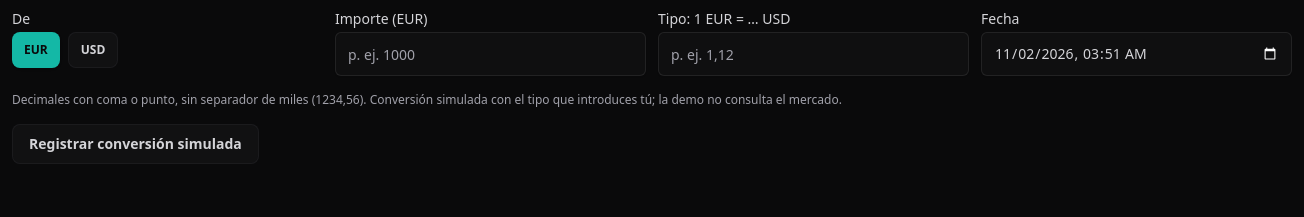
Test: FxTicket (conversión EUR ⇄ USD simulada) › sin fecha pide la fecha de la conversión
Type "1000" into the field labelled "Importe (EUR)" at (490, 54), box top-left (335, 32), bottom-right (646, 76)
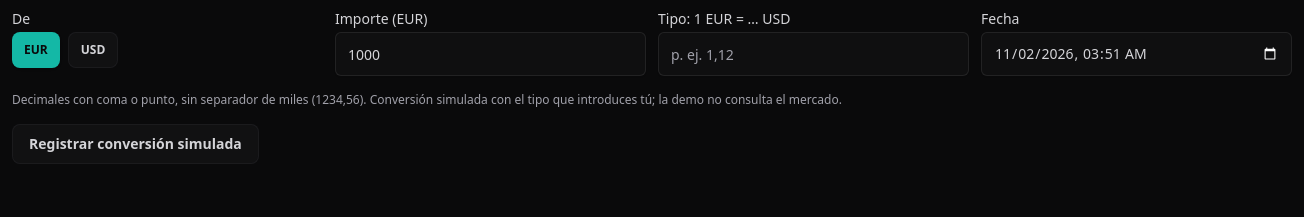
Type "1,12" into the field labelled "Tipo: 1 EUR = … USD" at (814, 54), box top-left (658, 32), bottom-right (969, 76)
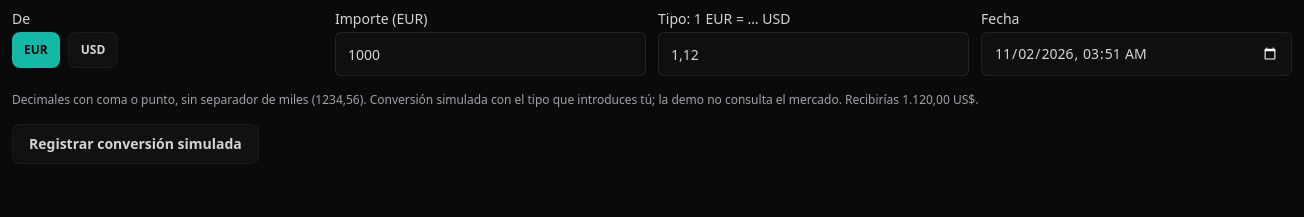
Clear the field labelled "Fecha" at (1136, 54), box top-left (981, 32), bottom-right (1292, 76)
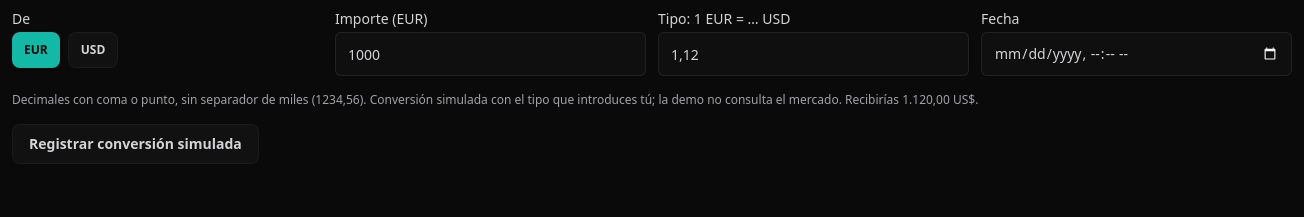
Submit the form named "Conversión de divisa simulada"
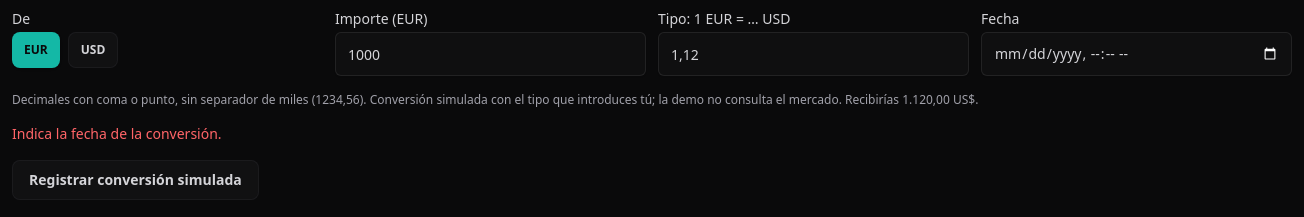
Expected: the message reads "Indica la fecha de la conversión.", top-left (12, 124), bottom-right (222, 143)
